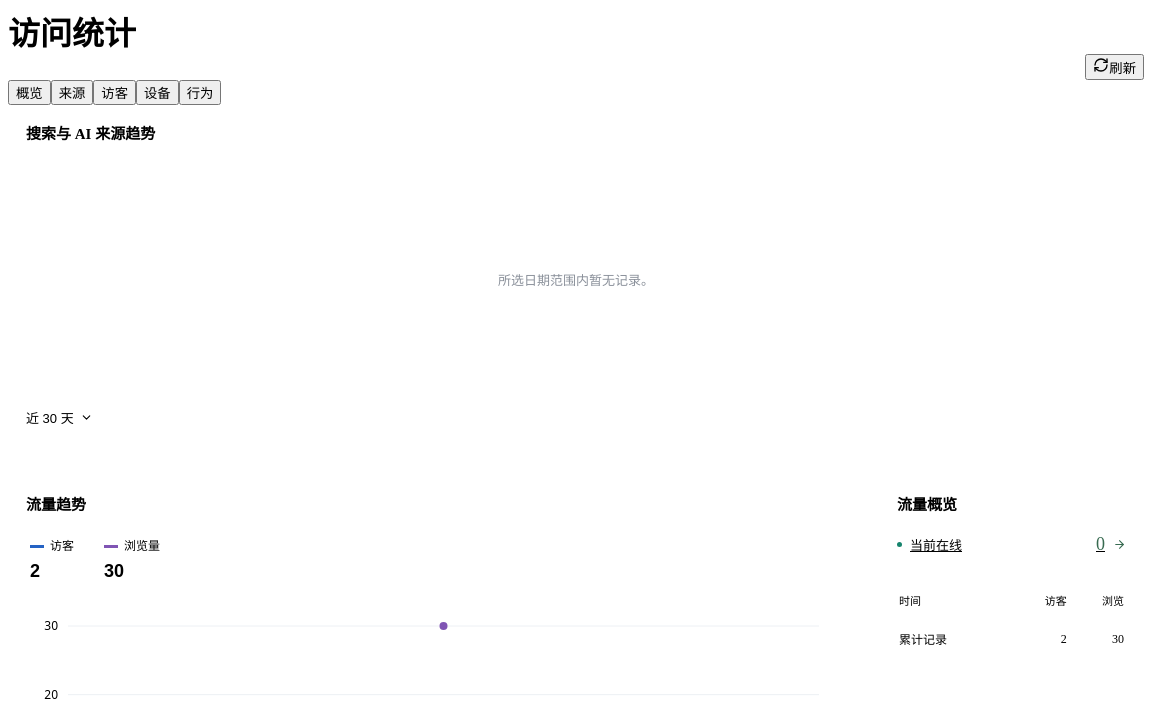
Scenario: keeps navigation and retry available after a query fails without exporting stale data
Click the button "近 30 天": (59, 418) 26,402 -> 93,434
(page scrolled)
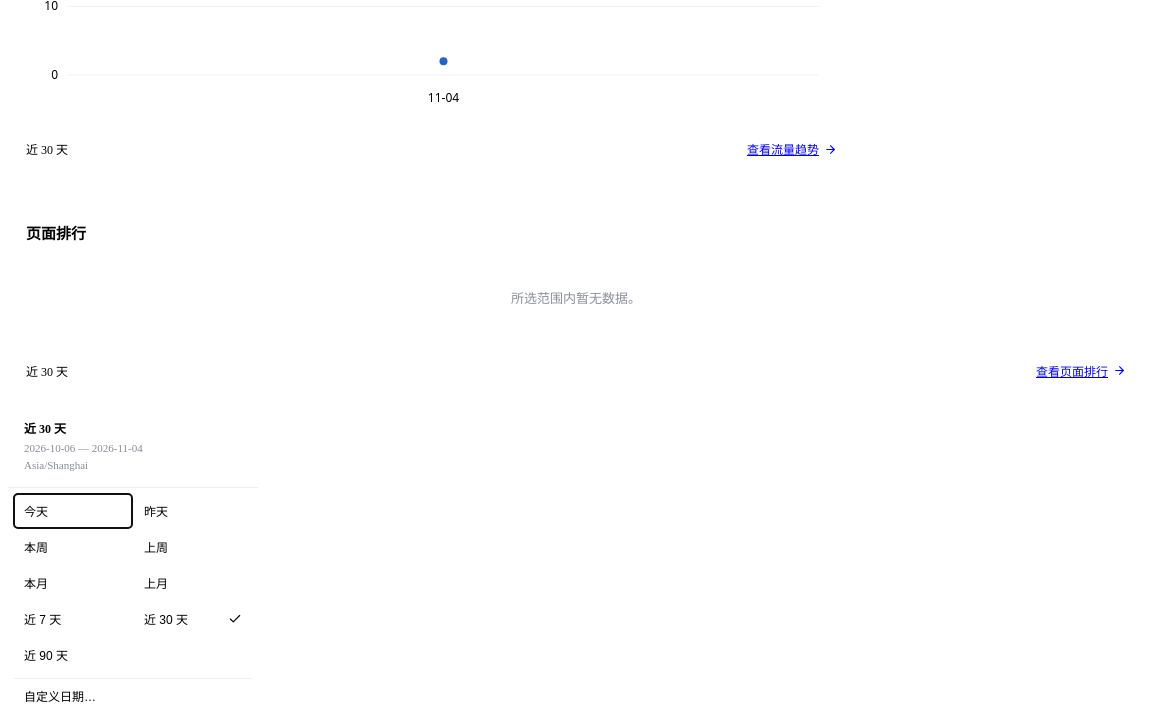
Expected: the button "近 7 天" is shown
Click the button "近 7 天": (73, 618) 14,602 -> 132,636
(page scrolled)
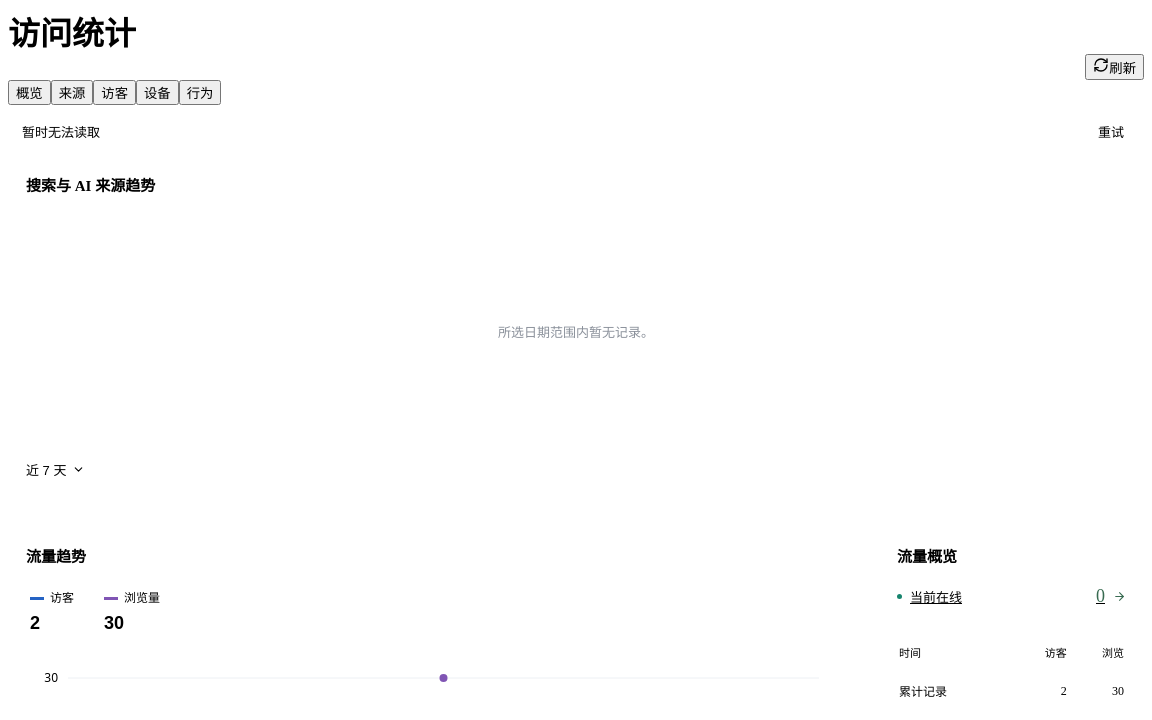
Expected: the number of tabs is 5, 8,80 -> 51,105; 51,80 -> 93,105; 93,80 -> 136,105; 136,80 -> 179,105; 179,80 -> 221,105
Expected: the message "暂时无法读取 重试" is shown, 22,117 -> 1130,145
Expected: the button "重试" is shown
Click the button "重试": (1111, 131) 1092,117 -> 1130,145
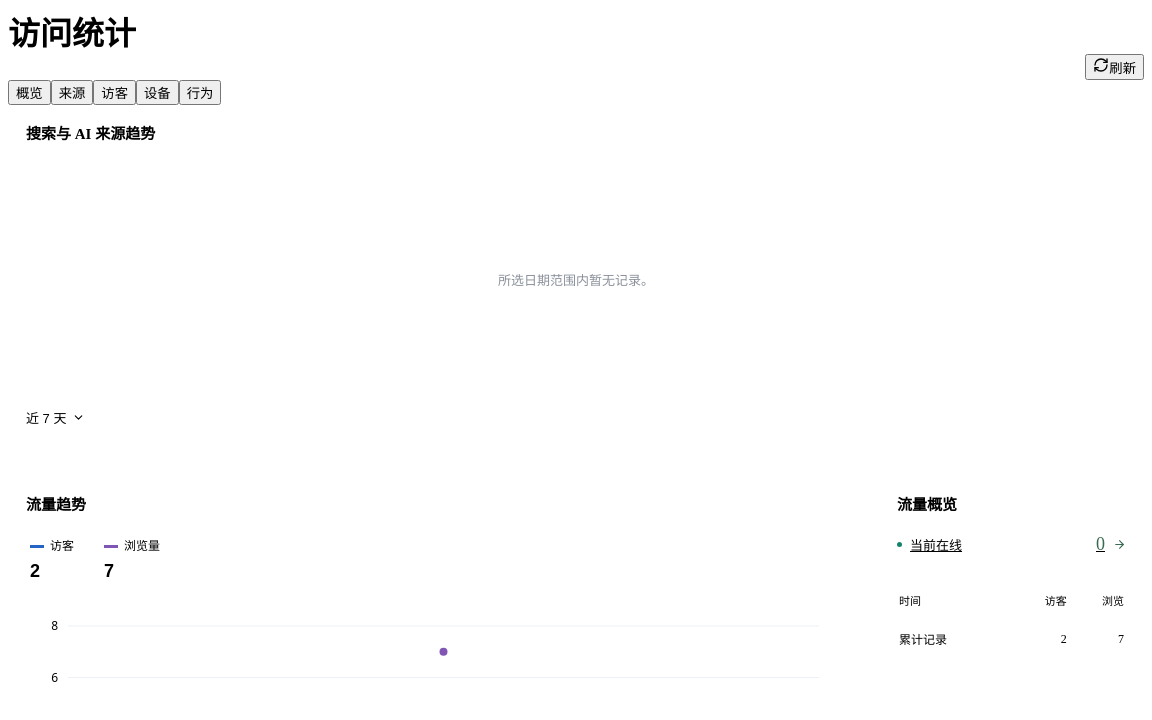
Expected: the button "近 7 天" is shown, 26,402 -> 86,434
Expected: the message "暂时无法读取 重试" is gone
